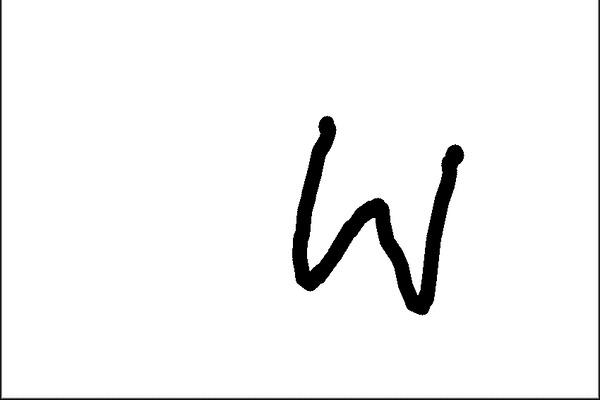w: (277, 107, 471, 324)
